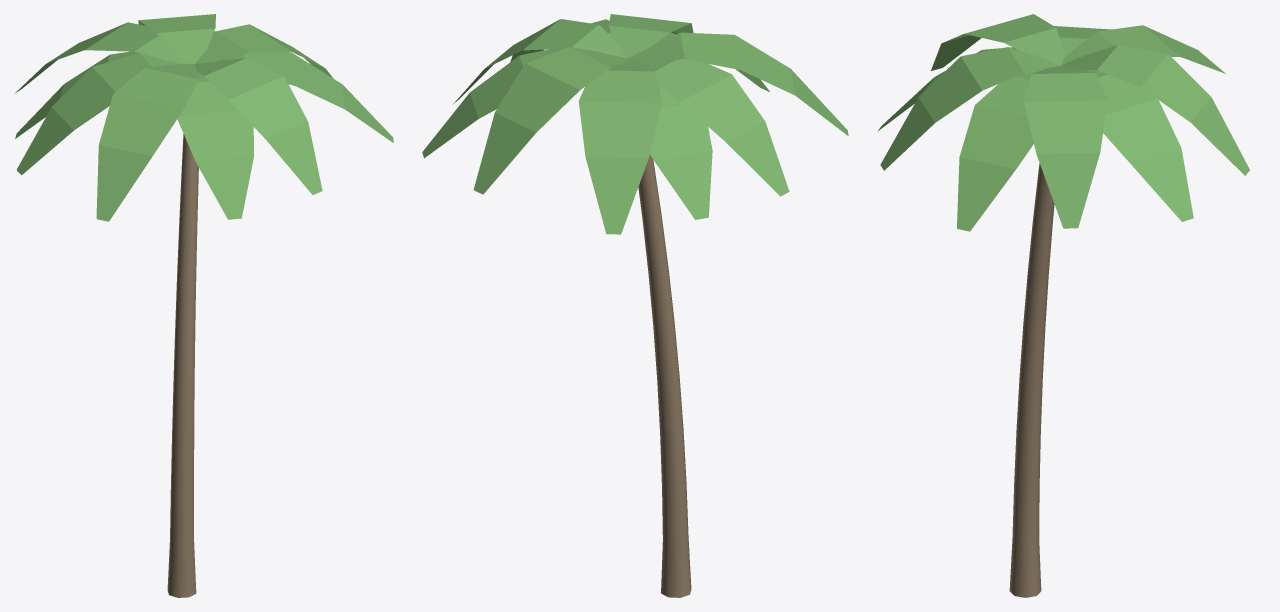
The model's file is palm_b.glb.
The picture shows the model from 3 angles, left to right: view 1: azimuth 30°, elevation 25°; view 2: azimuth 150°, elevation 25°; view 3: azimuth 270°, elevation 25°; orthographic projection. The views are drawn at different scales.
Parts seen in each view (by area): view 1: Palm; view 2: Palm; view 3: Palm.
Boxes of the visible parts, bbox=[...] form: Palm: bbox=[15, 14, 393, 597]; Palm: bbox=[422, 14, 848, 597]; Palm: bbox=[877, 14, 1249, 597].
Size of the model in its own units: 7.96 by 12.39 by 7.85.
